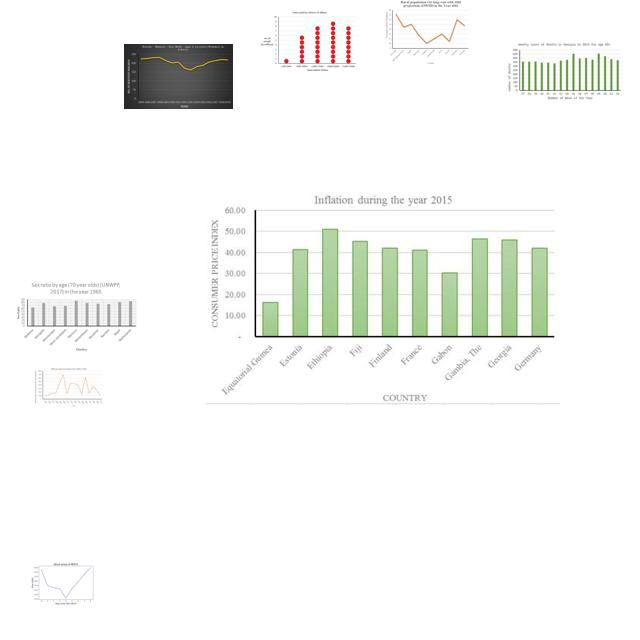Graph: (206, 192, 560, 405), (13, 280, 138, 352), (124, 44, 233, 109), (507, 42, 623, 100), (258, 9, 358, 74), (385, 0, 469, 65), (30, 556, 100, 609), (34, 367, 103, 407)
